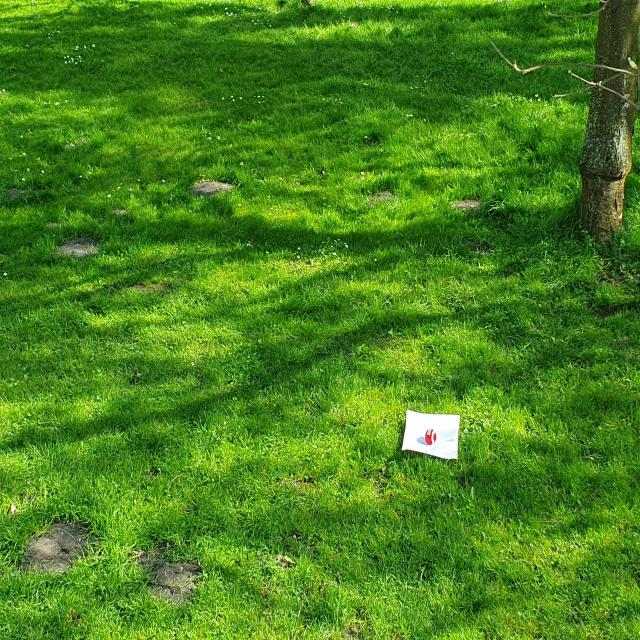red: (424, 429, 436, 445)
